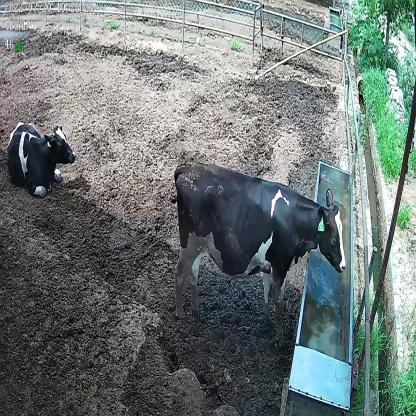cow: (169, 158, 346, 328), (5, 112, 77, 198)
